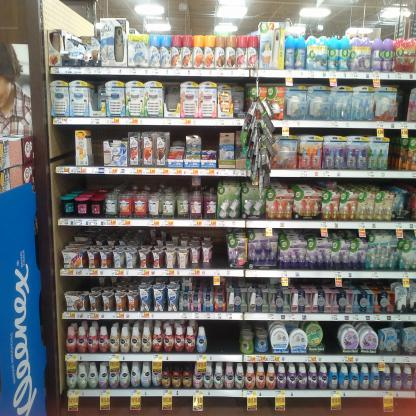Void: (204, 322, 238, 352), (53, 128, 72, 164), (212, 230, 226, 266), (92, 127, 102, 164), (326, 324, 338, 352), (201, 129, 217, 150), (92, 78, 104, 104), (168, 84, 179, 107), (172, 126, 186, 143), (391, 134, 397, 170)
